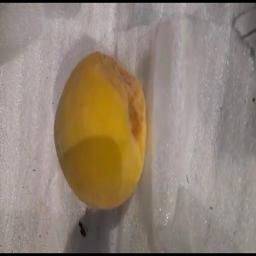Peach Rotten: (38, 40, 157, 218)
